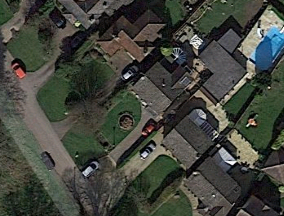tree: (61, 88, 113, 142), (57, 52, 82, 83), (248, 69, 282, 91)
